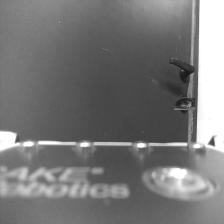Door Handle: (168, 56, 196, 84)
Lock: (176, 96, 192, 113)
